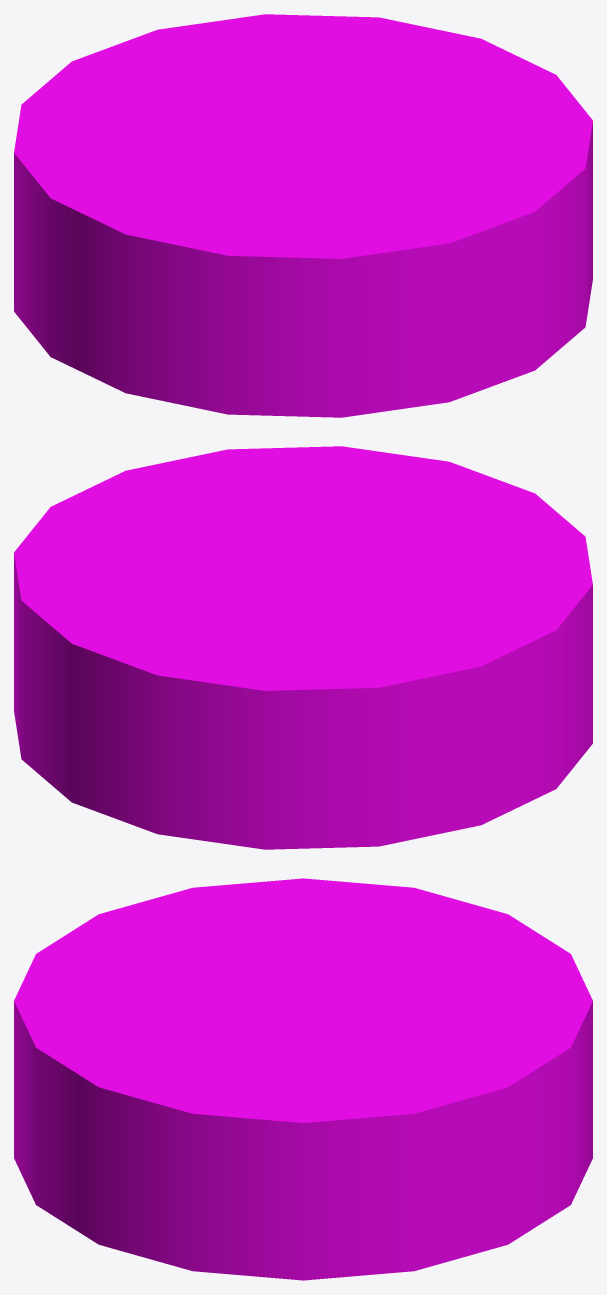
Rendered from arrival-table.collision.glb.
3 views of the same model, one above another, from view 1: azimuth 30°, elevation 25°; view 2: azimuth 150°, elevation 25°; view 3: azimuth 270°, elevation 25° (orthographic).
Visible parts, largest first — view 1: arrival_table_collision_collision; view 2: arrival_table_collision_collision; view 3: arrival_table_collision_collision.
Boxes of the visible parts, <box> form: arrival_table_collision_collision: <box>14,14,592,417</box>; arrival_table_collision_collision: <box>14,446,592,849</box>; arrival_table_collision_collision: <box>14,878,592,1280</box>.
Bounding box in the file's own units: 2 × 0.6 × 2.
